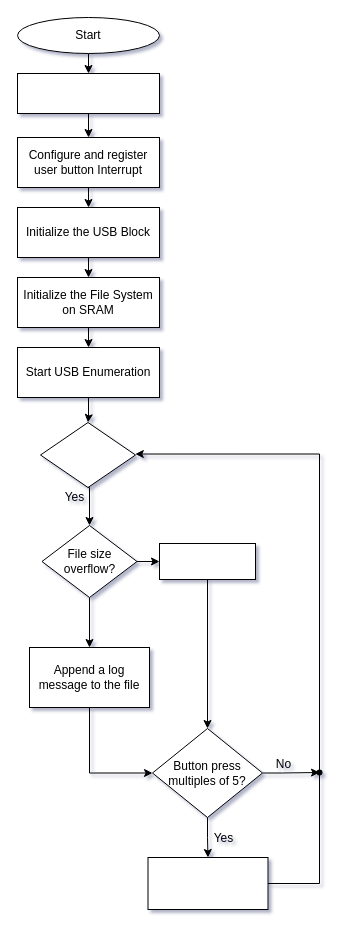
This 363x933 diagram has some shape labels left out. Here are the shapes that lost their labels. From the top down, the centre of each, then its label:
At [88,93]: "Device Initialization".
At [88,455]: "User Button pressed?".
At [207,561]: "Clear the File".
At [207,883]: "Emulate reconnect".
